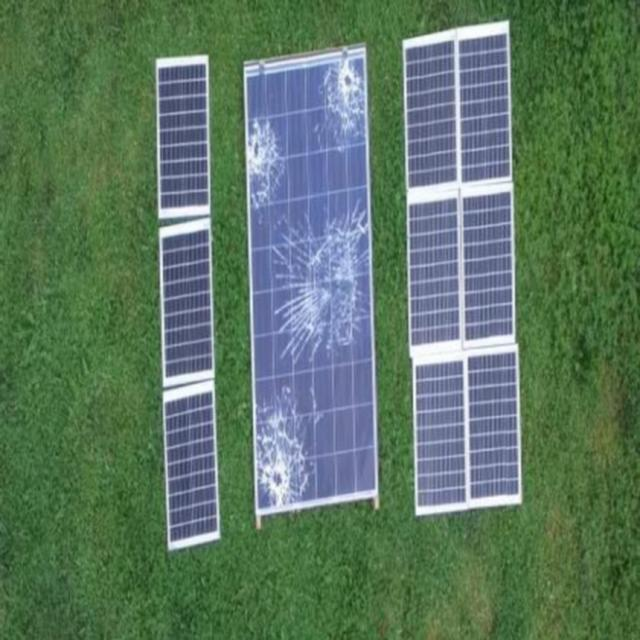cracked: (242, 42, 387, 528)
